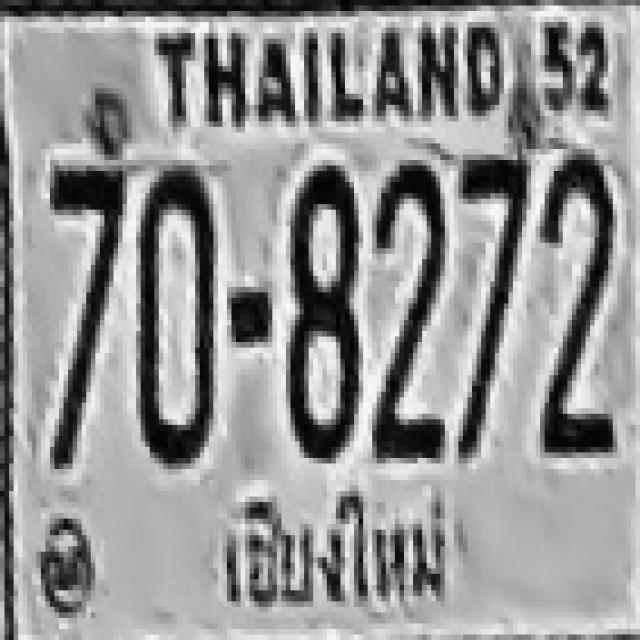0: (288, 160, 356, 320)
2: (538, 152, 615, 400), (372, 160, 445, 408), (538, 215, 615, 447), (370, 226, 442, 458)
7: (52, 166, 125, 375), (458, 154, 526, 326), (458, 154, 526, 304)
8: (286, 160, 359, 452), (288, 179, 356, 455)
ChiangMai: (198, 472, 461, 634)
